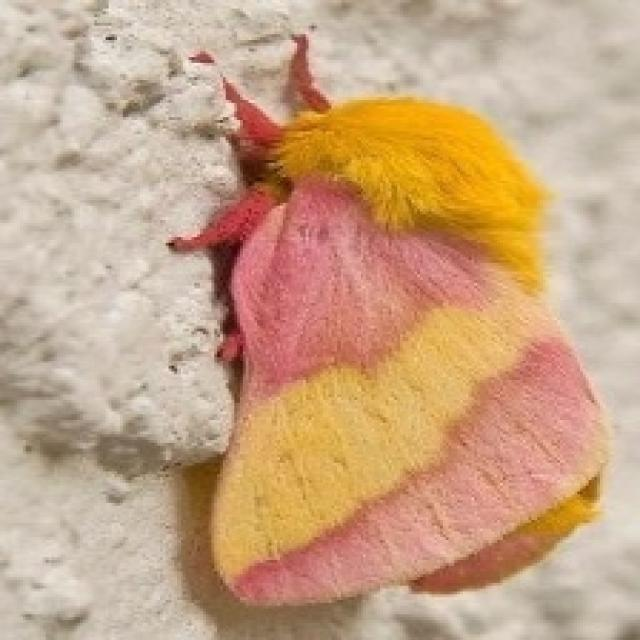butterfly: (163, 26, 611, 608)
